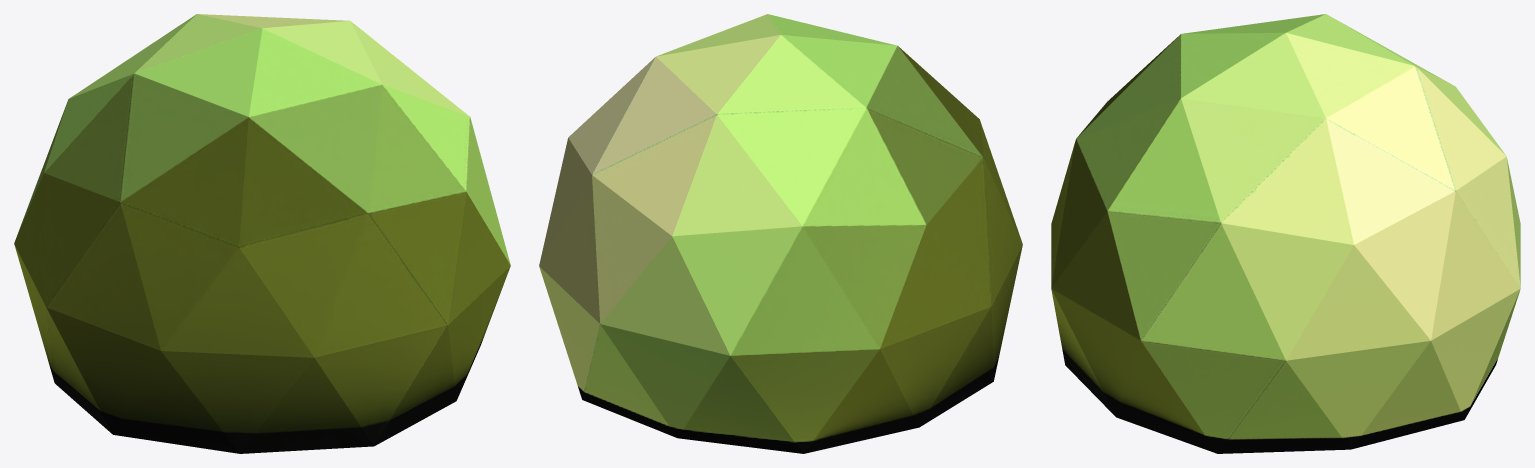
The model's file is snake_body.fbx.
3 renders of one model, left to right at view 1: azimuth 30°, elevation 25°; view 2: azimuth 150°, elevation 25°; view 3: azimuth 270°, elevation 25°, orthographic. The views are drawn at different scales.
Parts seen in each view (by area): view 1: Icosphere; view 2: Icosphere; view 3: Icosphere.
Part boxes in pixels (x1=…): Icosphere: x1=14, y1=14, x2=510, y2=453; Icosphere: x1=539, y1=14, x2=1022, y2=453; Icosphere: x1=1051, y1=14, x2=1520, y2=453.
Bounding box in the file's own units: 77.02 × 57.25 × 73.25.
Materials: 1 (1 with a texture image).
